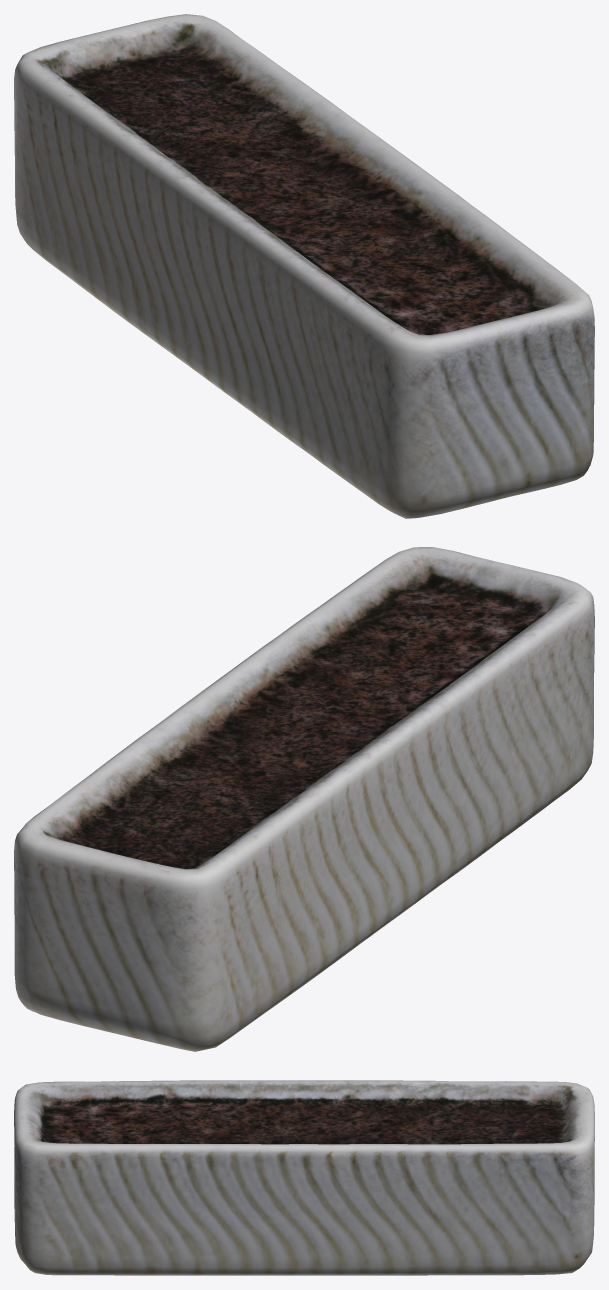
Rendered from 98b98979c4e7_Horizontal_rectangu.fbx.
3 views of the same model, one above another, from view 1: azimuth 30°, elevation 25°; view 2: azimuth 150°, elevation 25°; view 3: azimuth 270°, elevation 25° (orthographic). The views are drawn at different scales.
Visible parts, largest first — view 1: mesh; view 2: mesh; view 3: mesh.
Part boxes in pixels (x1,y1,x2,y2): mesh: [14, 14, 594, 518]; mesh: [14, 547, 594, 1051]; mesh: [14, 1080, 594, 1275].
Size of the model in its own units: 28.58 by 25.34 by 99.95.
